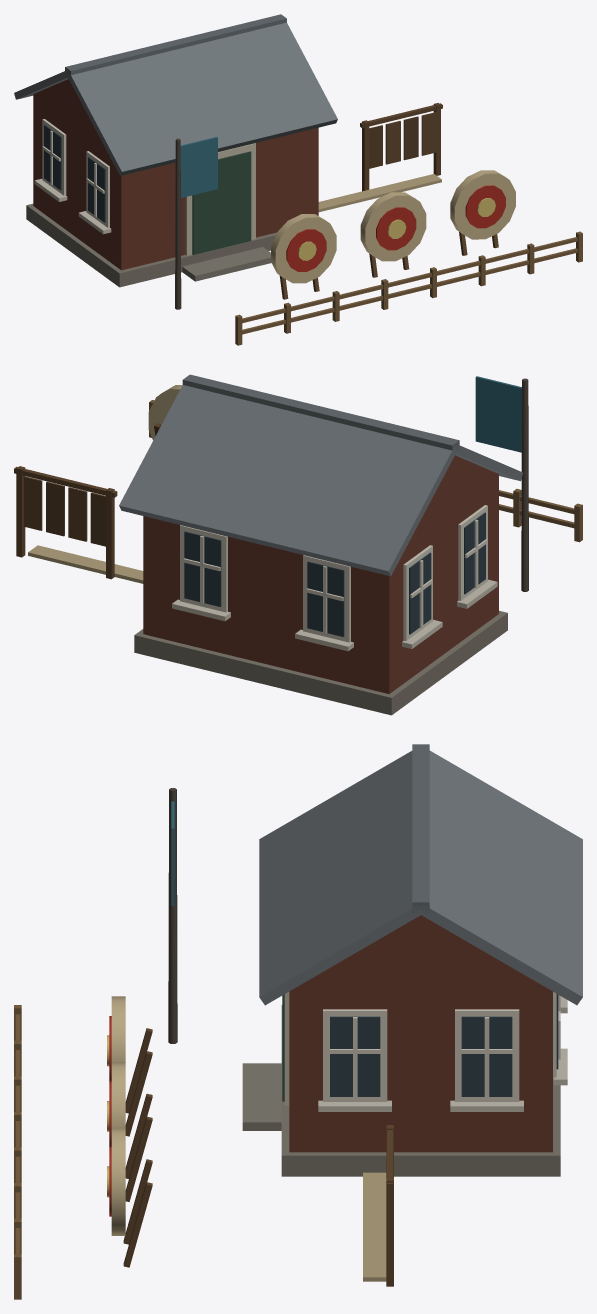
Rendered from procedural_archery@5.glb.
3 views of the same model, one above another, from view 1: azimuth 30°, elevation 25°; view 2: azimuth 150°, elevation 25°; view 3: azimuth 270°, elevation 25° (orthographic). The views are drawn at different scales.
Visible parts, largest first — view 1: part_0; view 2: part_0; view 3: part_0.
Part boxes in pixels (bbox=[...]): part_0: bbox=[14, 14, 582, 345]; part_0: bbox=[14, 374, 582, 715]; part_0: bbox=[14, 744, 582, 1299].
Bounding box in the file's own units: 8.46 × 4 × 7.34.
